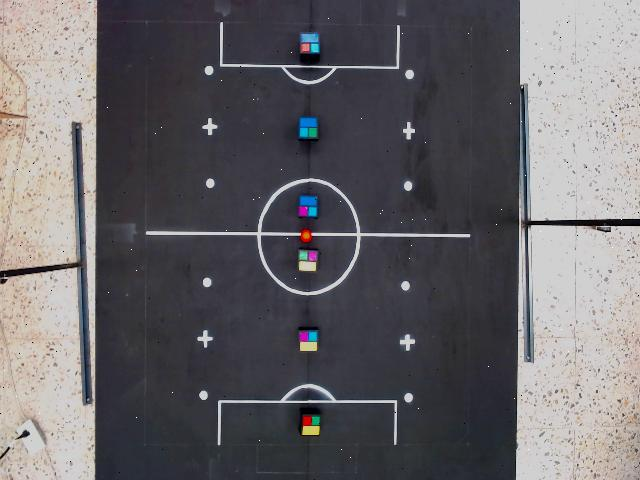robot: (298, 30, 322, 57), (297, 328, 321, 354), (296, 248, 319, 274), (298, 115, 320, 142), (300, 412, 322, 438), (298, 194, 319, 220)
